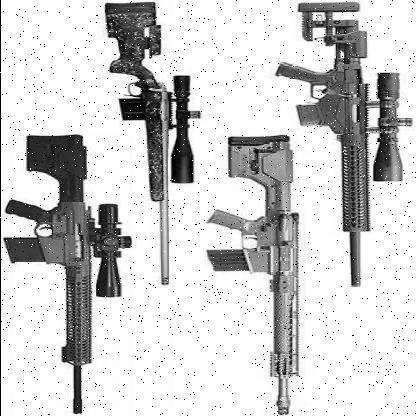rifle: (280, 1, 416, 308), (1, 128, 130, 415), (93, 0, 206, 302), (216, 123, 308, 416)
